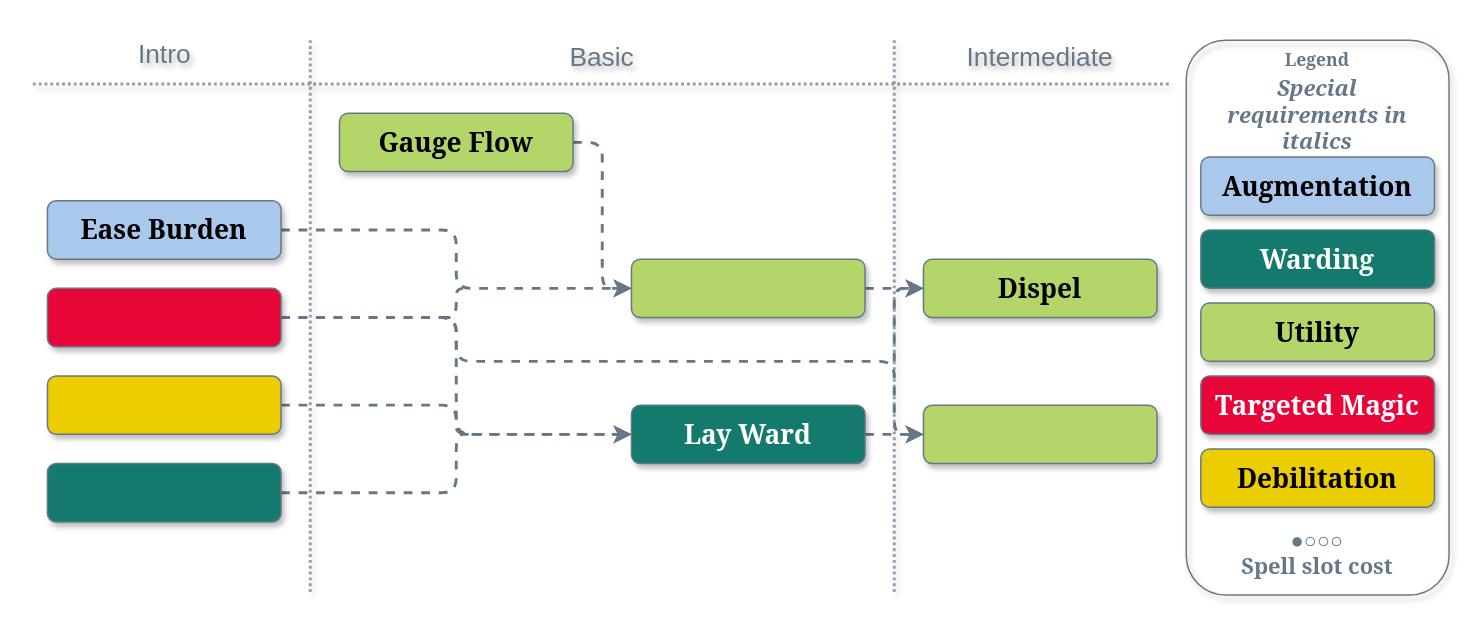
The diagram is 1483 pixels wide and 632 high, and some of its shapes have lost their labels. Each missing label, with the centre of its shape:
Burden: point 165,407
Imbue: point 1041,436
Manifest Force: point 165,494
Seal Cambrinth: point 749,290
Strange Arrow: point 165,319
